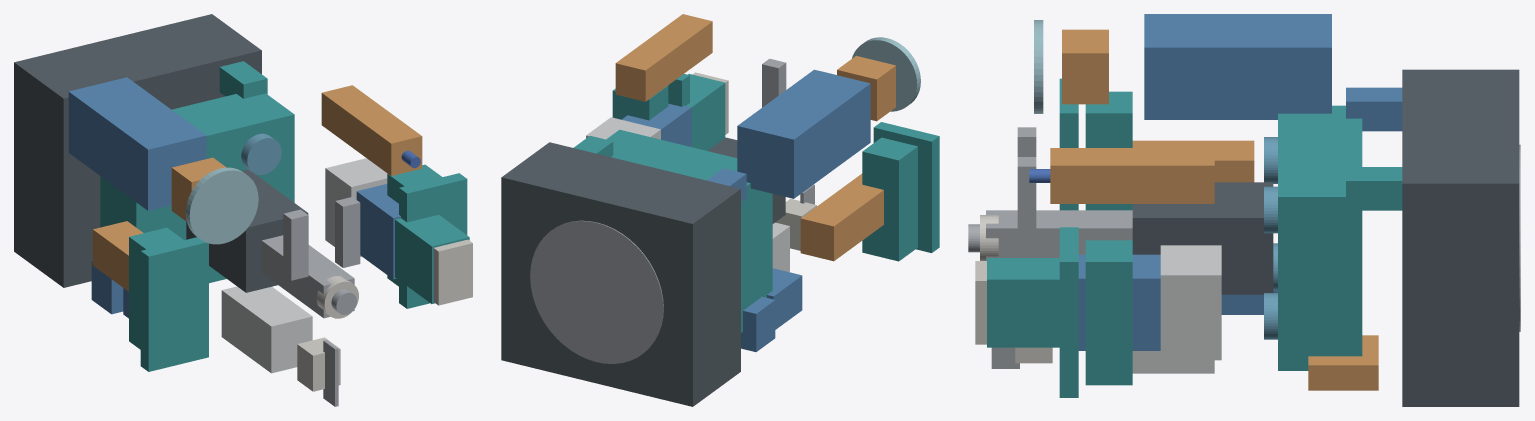
File: dranmar_tumor_resection_tool_verify.glb
The picture shows the model from 3 angles, left to right: view 1: azimuth 30°, elevation 25°; view 2: azimuth 150°, elevation 25°; view 3: azimuth 270°, elevation 25°; orthographic projection. The views are drawn at different scales.
Visible parts, largest first — view 1: Mount_MountBody, BagDeployer_BagDeployerBody, SensorTurret_SensorTurretBody, LeftTraction_LeftPad, ScissorCarriage_ScissorCarriageBody, MarginMarker_MarginMarkerBody, AspiratorCarriage_AspiratorCarriageBody, BagDeployer_BagRing, UltrasoundCompliance_UltrasoundComplianceBody, RightTraction_RightPad, UltrasoundPitch_UltrasoundPitchBody, AspiratorRotor_AspiratorRotorBody (+15 smaller); view 2: Mount_MountBody, Mount_MountRing, BagDeployer_BagDeployerBody, SensorTurret_SensorTurretBody, LeftTraction_LeftTractionBody, MarginMarker_MarginMarkerBody, RamanProbe_RamanProbeBody, LeftTraction_LeftPad, UltrasoundCompliance_UltrasoundComplianceBody, BagDeployer_BagRing, BagClosure_BagClosureBody, OCTScannerX_OCTScannerXBody (+11 smaller); view 3: Mount_MountBody, SensorTurret_SensorTurretBody, BagDeployer_BagDeployerBody, AspiratorCarriage_AspiratorCarriageBody, MarginMarker_MarginMarkerBody, UltrasoundCarriage_UltrasoundCarriageBody, RightTraction_RightTractionBody, UltrasoundCompliance_UltrasoundComplianceBody, AspiratorRotor_AspiratorRotorBody, UltrasoundPitch_UltrasoundPitchBody, BagClosure_BagClosureBody, RightTraction_RightPad (+18 smaller).
Part boxes in pixels (x1,y1,x2,y2): Mount_MountBody: (14, 14, 261, 287); BagDeployer_BagDeployerBody: (68, 77, 206, 210); SensorTurret_SensorTurretBody: (100, 93, 294, 283); LeftTraction_LeftPad: (140, 237, 208, 371); ScissorCarriage_ScissorCarriageBody: (221, 286, 312, 373); MarginMarker_MarginMarkerBody: (321, 85, 422, 175); AspiratorCarriage_AspiratorCarriageBody: (186, 169, 308, 292); BagDeployer_BagRing: (185, 167, 258, 244); UltrasoundCompliance_UltrasoundComplianceBody: (395, 214, 469, 303); RightTraction_RightPad: (399, 173, 467, 308); UltrasoundPitch_UltrasoundPitchBody: (356, 184, 400, 279); AspiratorRotor_AspiratorRotorBody: (261, 235, 354, 318); Mount_MountBody: (501, 142, 740, 406); Mount_MountRing: (530, 220, 663, 363); BagDeployer_BagDeployerBody: (737, 69, 870, 198); SensorTurret_SensorTurretBody: (606, 129, 772, 332); LeftTraction_LeftTractionBody: (862, 137, 917, 261); MarginMarker_MarginMarkerBody: (615, 14, 712, 101); RamanProbe_RamanProbeBody: (800, 173, 883, 261); LeftTraction_LeftPad: (873, 122, 939, 252); UltrasoundCompliance_UltrasoundComplianceBody: (686, 74, 725, 150); BagDeployer_BagRing: (852, 37, 920, 111); BagClosure_BagClosureBody: (837, 55, 895, 121); OCTScannerX_OCTScannerXBody: (741, 296, 775, 351); Mount_MountBody: (1402, 69, 1519, 406); SensorTurret_SensorTurretBody: (1278, 105, 1362, 370); BagDeployer_BagDeployerBody: (1144, 14, 1331, 119); AspiratorCarriage_AspiratorCarriageBody: (1132, 182, 1273, 294); MarginMarker_MarginMarkerBody: (1050, 148, 1214, 203); UltrasoundCarriage_UltrasoundCarriageBody: (1160, 245, 1221, 360); RightTraction_RightTractionBody: (1085, 240, 1132, 385); UltrasoundCompliance_UltrasoundComplianceBody: (987, 258, 1059, 347); AspiratorRotor_AspiratorRotorBody: (986, 210, 1132, 260); UltrasoundPitch_UltrasoundPitchBody: (1078, 254, 1160, 350); BagClosure_BagClosureBody: (1062, 29, 1108, 104); RightTraction_RightPad: (1059, 227, 1078, 397).
Bounding box in the file's own units: 0.185 × 0.136 × 0.2355.
